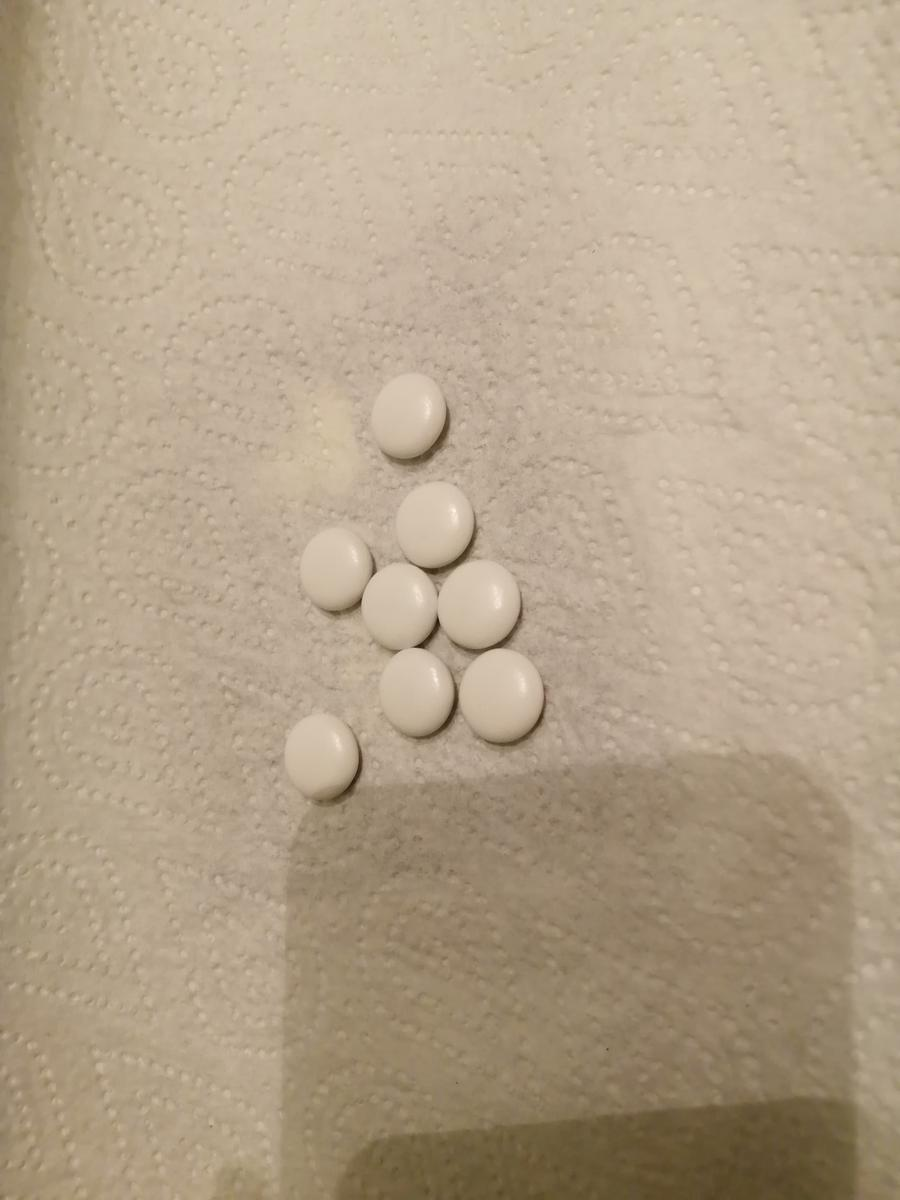tablet: (453, 645, 556, 742), (275, 708, 365, 808), (371, 645, 461, 738), (435, 558, 523, 649), (393, 478, 480, 569), (362, 559, 441, 653), (293, 524, 374, 612), (367, 373, 446, 457)
